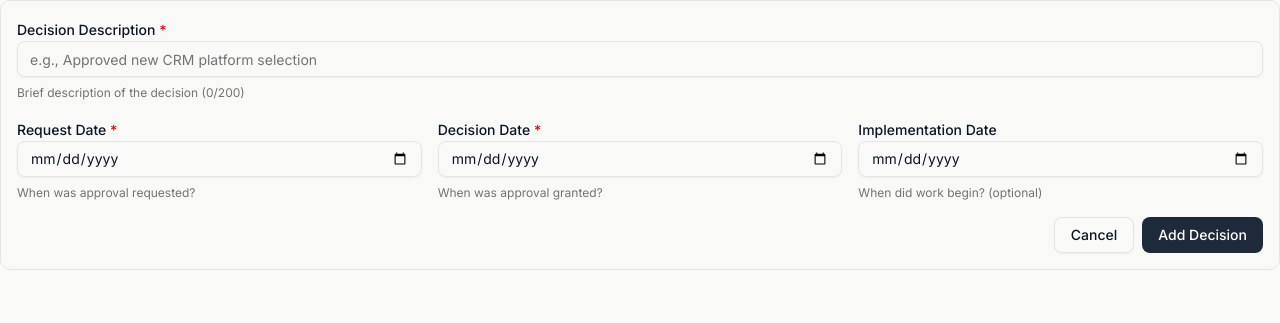
Test: DecisionSampleForm › validation › shows error when request date is missing
Step 1. Type "Valid description" into the field labelled "Decision Description *" → (640,59), box [17,41,1263,77]
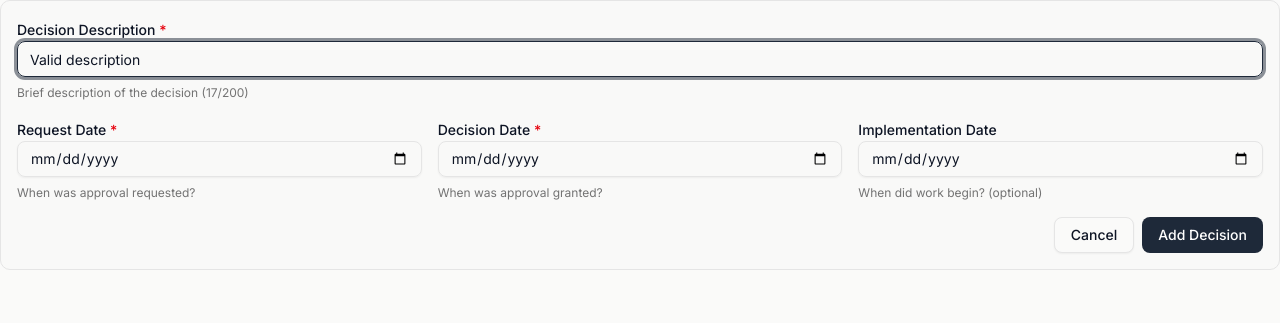
Step 2. Click the button "Add Decision" → (1203,235), box [1142,217,1263,253]
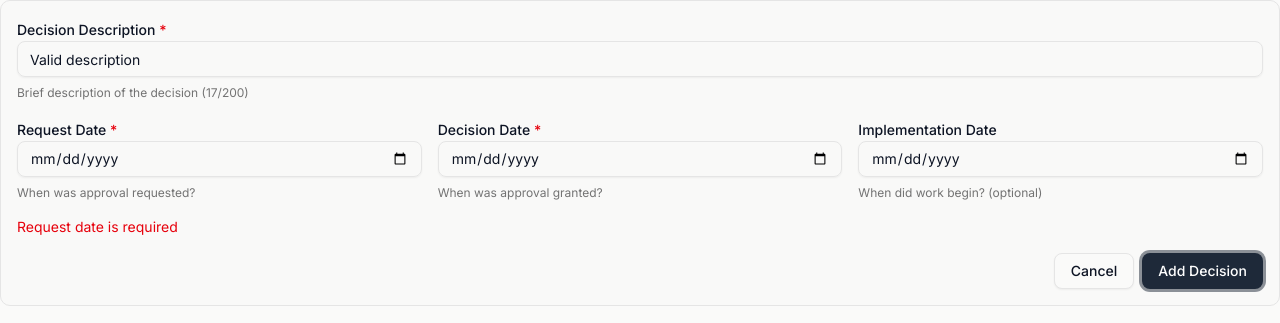
Now the message reads "Request date is required", box [17,218,178,235]
